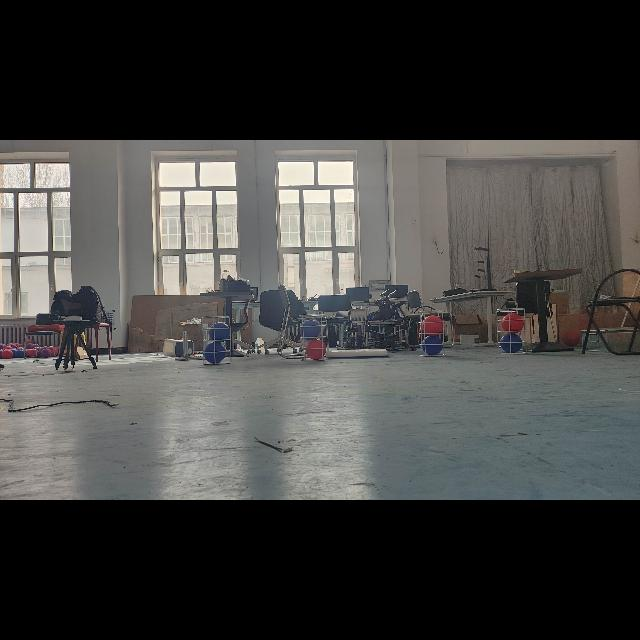B: (421, 334, 443, 356), (209, 323, 231, 343), (300, 320, 320, 340), (205, 342, 225, 362), (500, 333, 520, 352)
R: (502, 314, 524, 334), (306, 340, 326, 360), (422, 316, 442, 334)
S: (200, 313, 234, 369), (493, 306, 529, 356), (416, 308, 449, 360), (299, 312, 331, 363)
